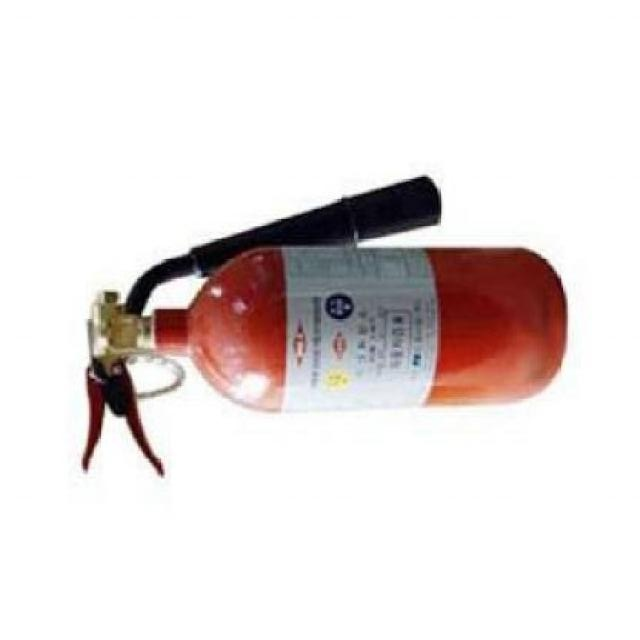fire extinguisher: (80, 175, 569, 477)
